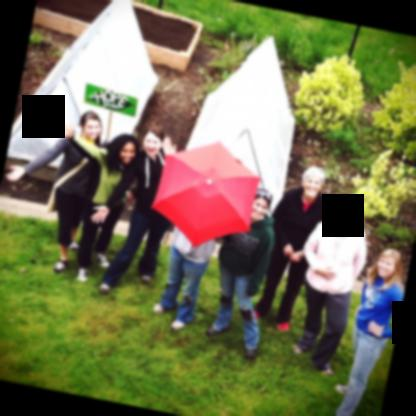handbag: (46, 157, 91, 214)
